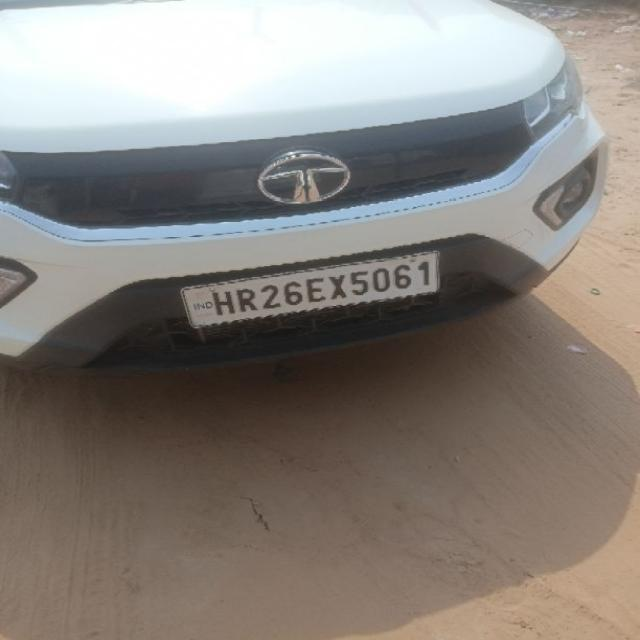license_plate: (1, 0, 609, 373), (178, 249, 441, 333)
